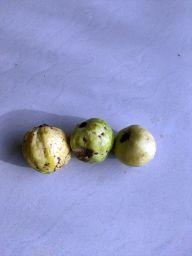guava: (20, 123, 73, 178), (72, 115, 116, 165), (116, 124, 159, 168)
